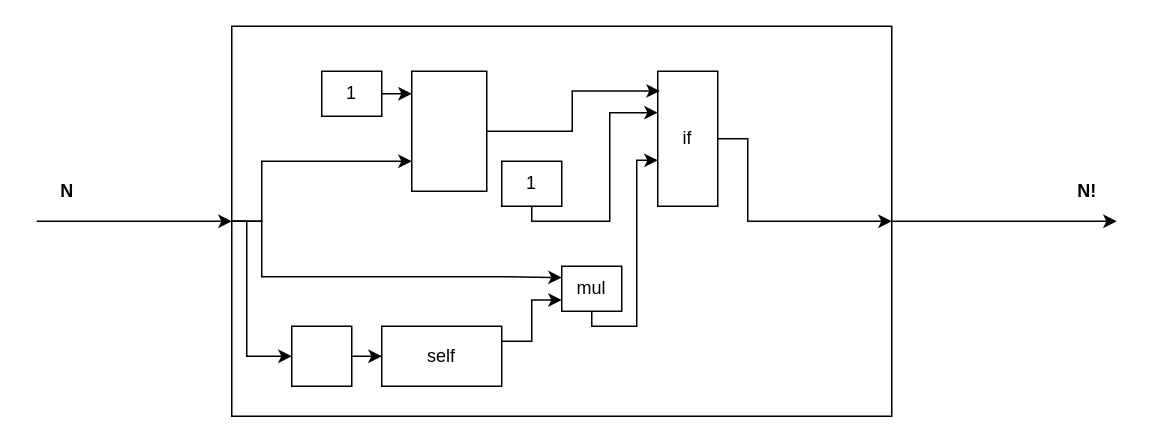
This 1155x443 diagram has some shape labels left out. The centre of each missing label's shape, as x and y in pixels:
eq?: point (448, 130)
minus 1: point (321, 355)
